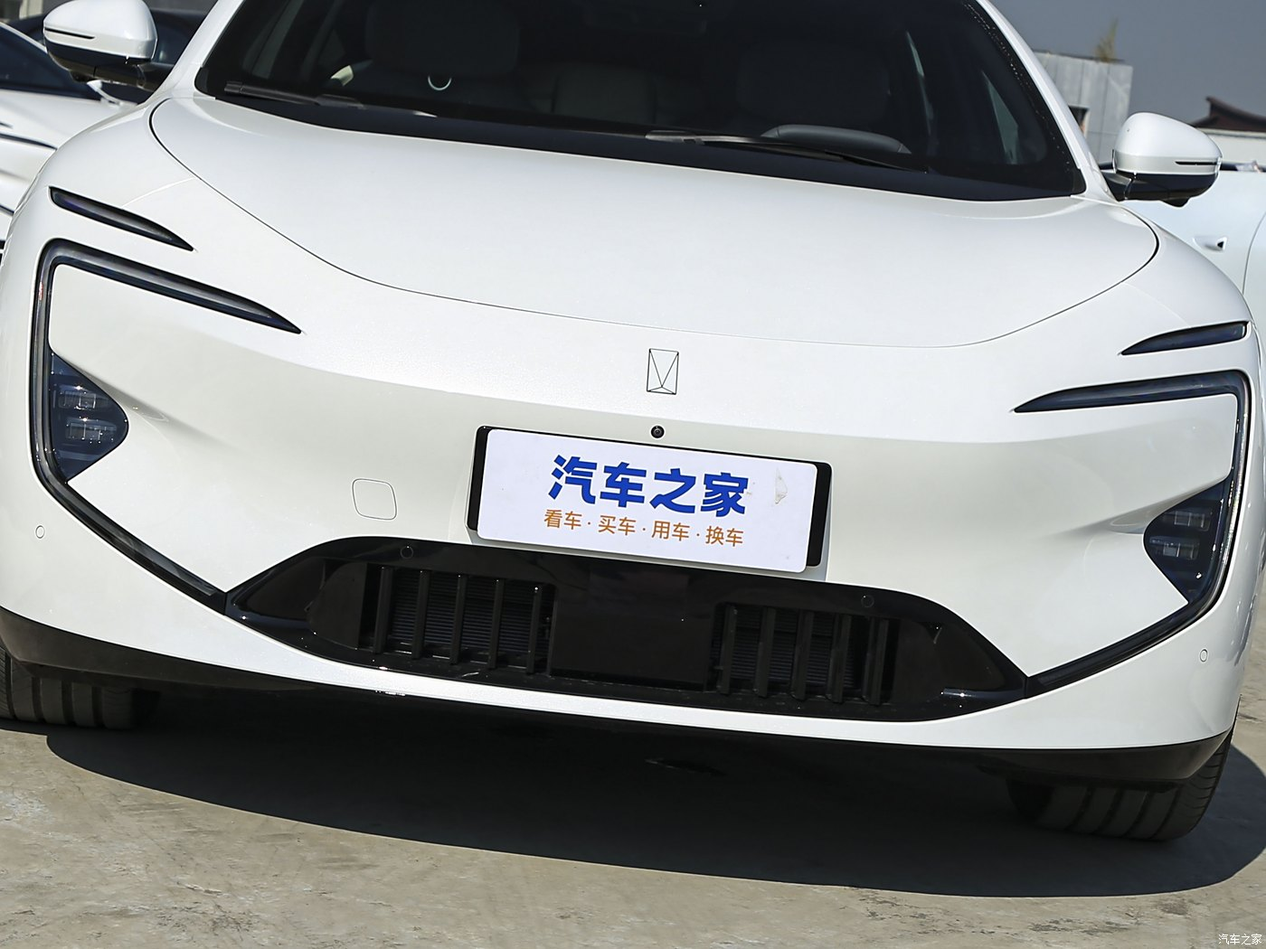AVATR: (647, 348, 679, 395)
